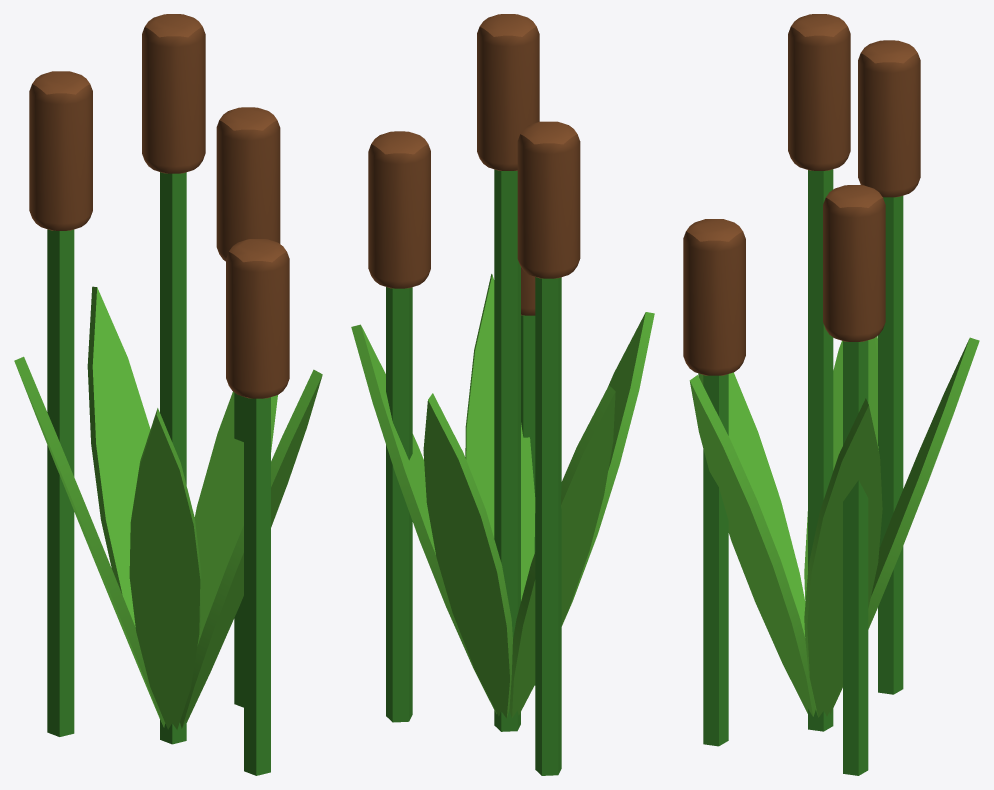
File: Reeds.fbx
3 views of the same model, side by side, from view 1: azimuth 30°, elevation 25°; view 2: azimuth 150°, elevation 25°; view 3: azimuth 270°, elevation 25° (orthographic).
Visible parts, largest first — view 1: Reeds; view 2: Reeds; view 3: Reeds.
Boxes of the visible parts, left/top/right/bottom form: Reeds: left=14, top=14, right=322, bottom=775; Reeds: left=351, top=14, right=654, bottom=775; Reeds: left=683, top=14, right=979, bottom=775.
Bounding box in the file's own units: 0.8725 × 2.23 × 0.8483.
Materials: 1 (1 with a texture image).
